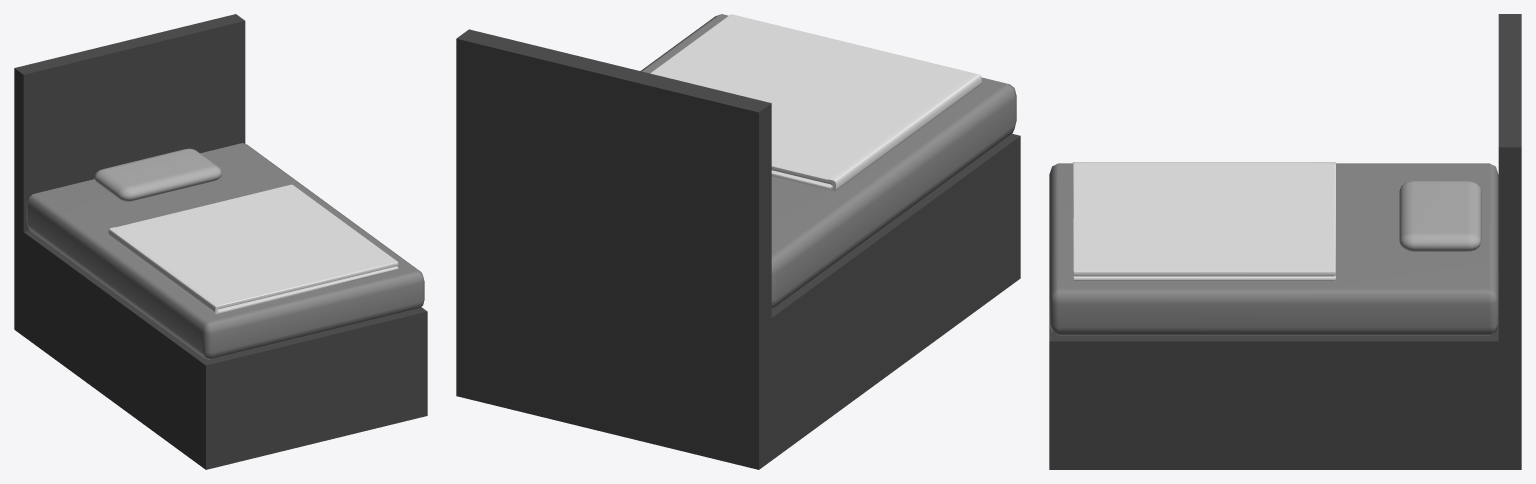
File: Orellian_Bed_01.fbx
The picture shows the model from 3 angles, left to right: view 1: azimuth 30°, elevation 25°; view 2: azimuth 150°, elevation 25°; view 3: azimuth 270°, elevation 25°; orthographic projection. The views are drawn at different scales.
Visible parts, largest first — view 1: Orellian_Bed_01; view 2: Orellian_Bed_01; view 3: Orellian_Bed_01.
Part boxes in pixels (left/top/right/bottom): Orellian_Bed_01: left=14, top=14, right=427, bottom=469; Orellian_Bed_01: left=456, top=14, right=1020, bottom=469; Orellian_Bed_01: left=1049, top=14, right=1521, bottom=469.
Size of the model in its own units: 2.22 by 2.51 by 3.33.
